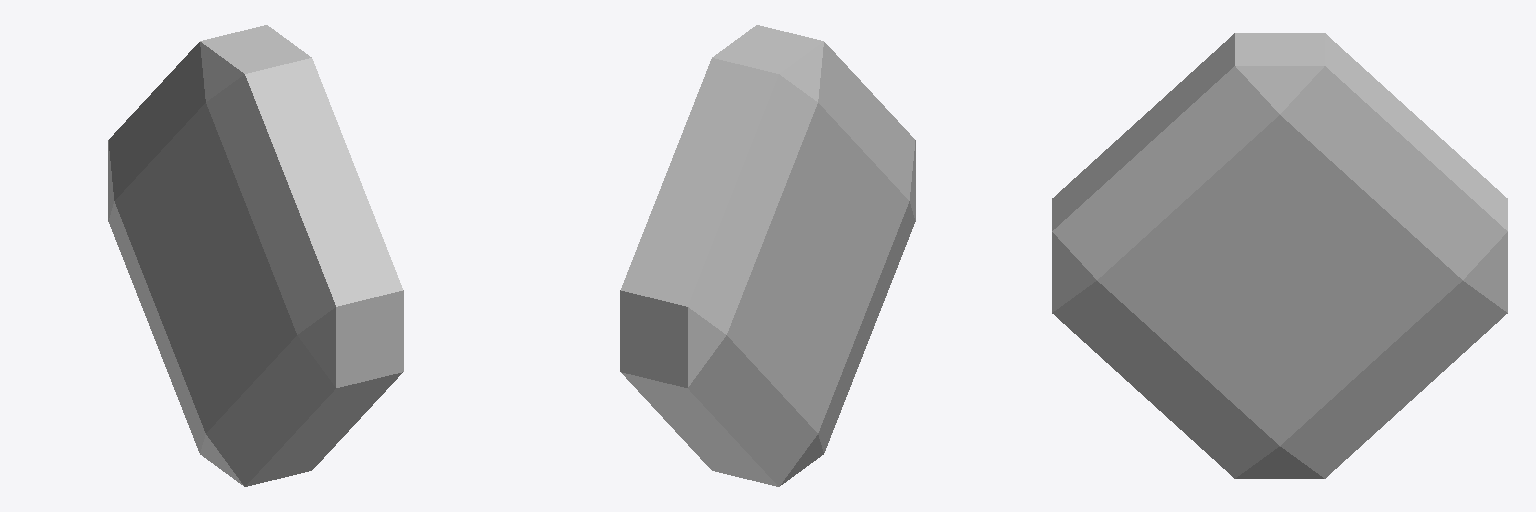
The model's file is powerup.obj.
The picture shows the model from 3 angles: view 1: azimuth 30°, elevation 25°; view 2: azimuth 150°, elevation 25°; view 3: azimuth 270°, elevation 25°; orthographic projection.
Visible parts, largest first — view 1: Cube; view 2: Cube; view 3: Cube.
Part boxes in pixels (left/top/right/bottom): Cube: left=108, top=25, right=403, bottom=486; Cube: left=620, top=25, right=915, bottom=486; Cube: left=1052, top=33, right=1507, bottom=478.
Size of the model in its own units: 1.5 by 5.9 by 5.9.